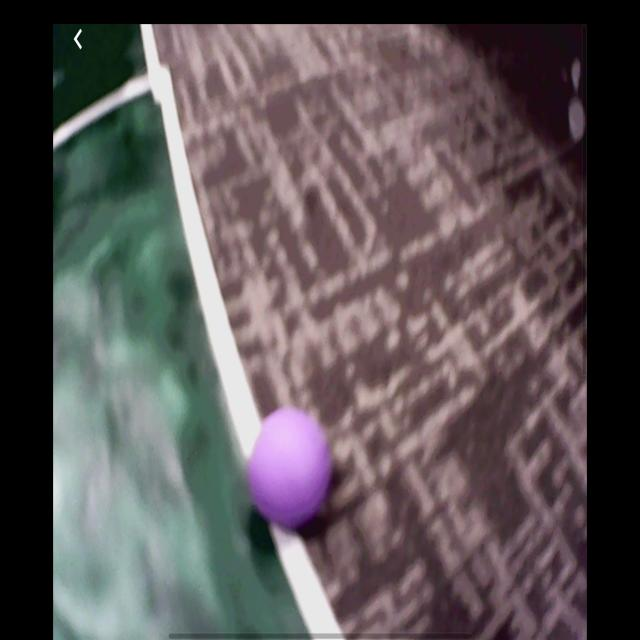ball: (246, 410, 335, 517)
